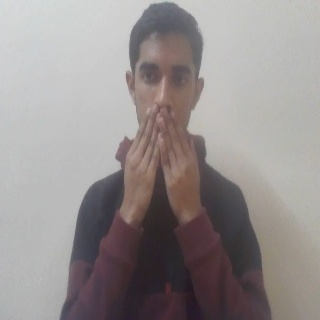Thank You: (118, 105, 205, 232)
